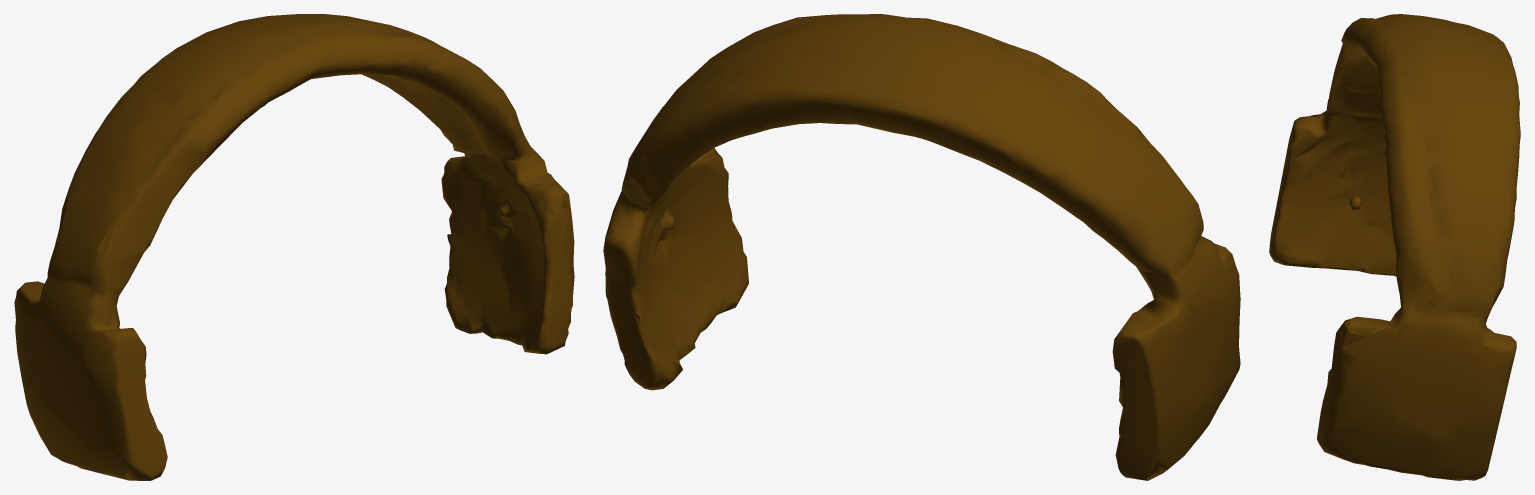
File: gold square headphones.glb
3 views of the same model, side by side, from view 1: azimuth 30°, elevation 25°; view 2: azimuth 150°, elevation 25°; view 3: azimuth 270°, elevation 25° (orthographic). The views are drawn at different scales.
Visible parts, largest first — view 1: headphones_square_gold.001; view 2: headphones_square_gold.001; view 3: headphones_square_gold.001.
Part boxes in pixels (<box>): headphones_square_gold.001: <box>14,14,574,480</box>; headphones_square_gold.001: <box>603,14,1240,480</box>; headphones_square_gold.001: <box>1269,14,1520,480</box>.
Size of the model in its own units: 0.3862 by 0.2645 by 0.177.
